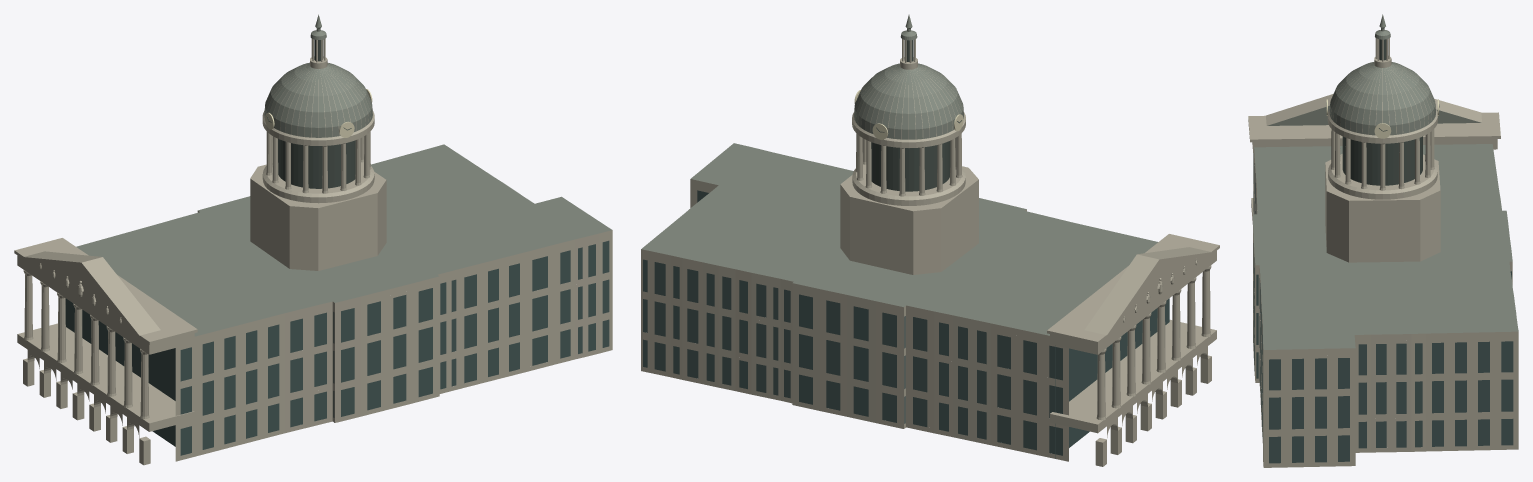
Rendered from nottingham-council-house-near.glb.
The picture shows the model from 3 angles, left to right: view 1: azimuth 30°, elevation 25°; view 2: azimuth 150°, elevation 25°; view 3: azimuth 270°, elevation 25°; orthographic projection. The views are drawn at different scales.
Visible parts, largest first — view 1: nottingham-council-house-0-stone, nottingham-council-house-0-roof, nottingham-council-house-0-glass, nottingham-council-house-0-iron; view 2: nottingham-council-house-0-stone, nottingham-council-house-0-roof, nottingham-council-house-0-glass, nottingham-council-house-0-iron; view 3: nottingham-council-house-0-roof, nottingham-council-house-0-stone, nottingham-council-house-0-glass, nottingham-council-house-0-iron, nottingham-council-house-0-clock.
Boxes of the visible parts, x1,y1,x2,y2 form: nottingham-council-house-0-stone: (14,38,612,465); nottingham-council-house-0-roof: (76,14,611,336); nottingham-council-house-0-glass: (65,240,609,455); nottingham-council-house-0-iron: (267,39,355,188); nottingham-council-house-0-stone: (641,39,1219,466); nottingham-council-house-0-roof: (641,14,1157,335); nottingham-council-house-0-glass: (643,190,1169,458); nottingham-council-house-0-iron: (871,40,961,191); nottingham-council-house-0-roof: (1253,14,1518,349); nottingham-council-house-0-stone: (1248,38,1518,467); nottingham-council-house-0-glass: (1253,153,1513,463); nottingham-council-house-0-iron: (1326,39,1439,185); nottingham-council-house-0-clock: (1326,99,1438,138).
Size of the model in its own units: 87.65 by 60.96 by 43.67.
